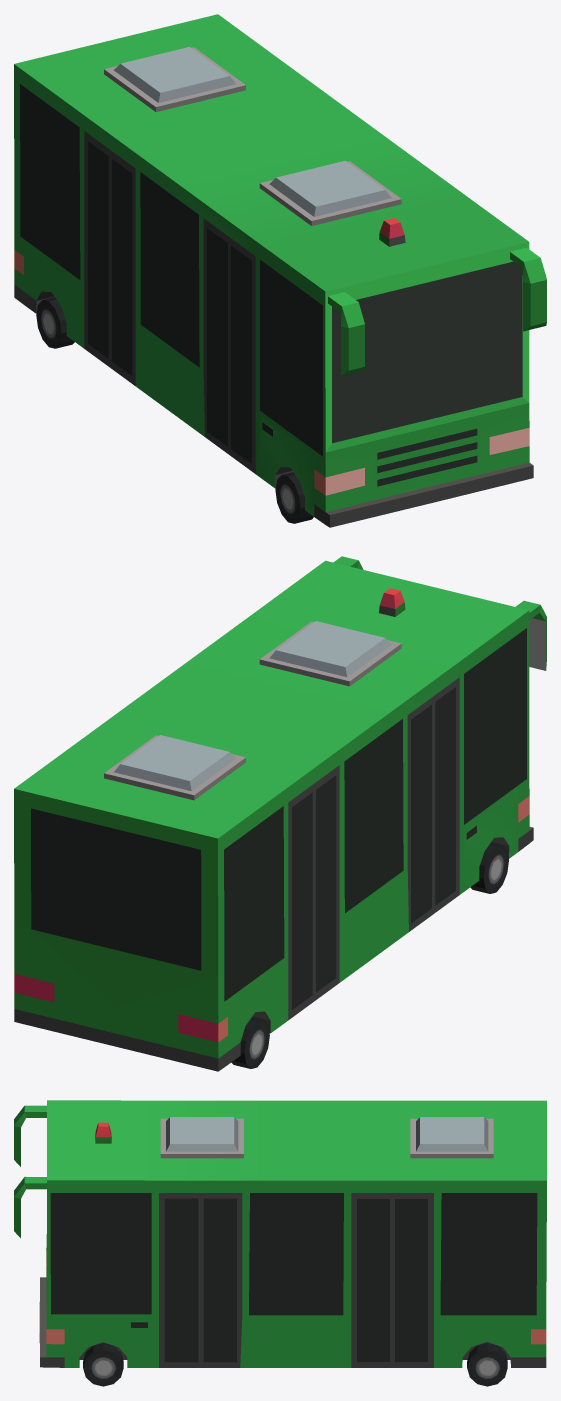
The model's file is airportBus.fbx.
3 renders of one model, top to bottom at view 1: azimuth 30°, elevation 25°; view 2: azimuth 150°, elevation 25°; view 3: azimuth 270°, elevation 25°, orthographic. The views are drawn at different scales.
Visible parts, largest first — view 1: airportBus; view 2: airportBus; view 3: airportBus.
Boxes of the visible parts, x1,y1,x2,y2 form: airportBus: [14, 14, 546, 527]; airportBus: [14, 556, 546, 1071]; airportBus: [14, 1100, 546, 1386].
Bounding box in the file's own units: 4.45 × 5.62 × 12.29.
